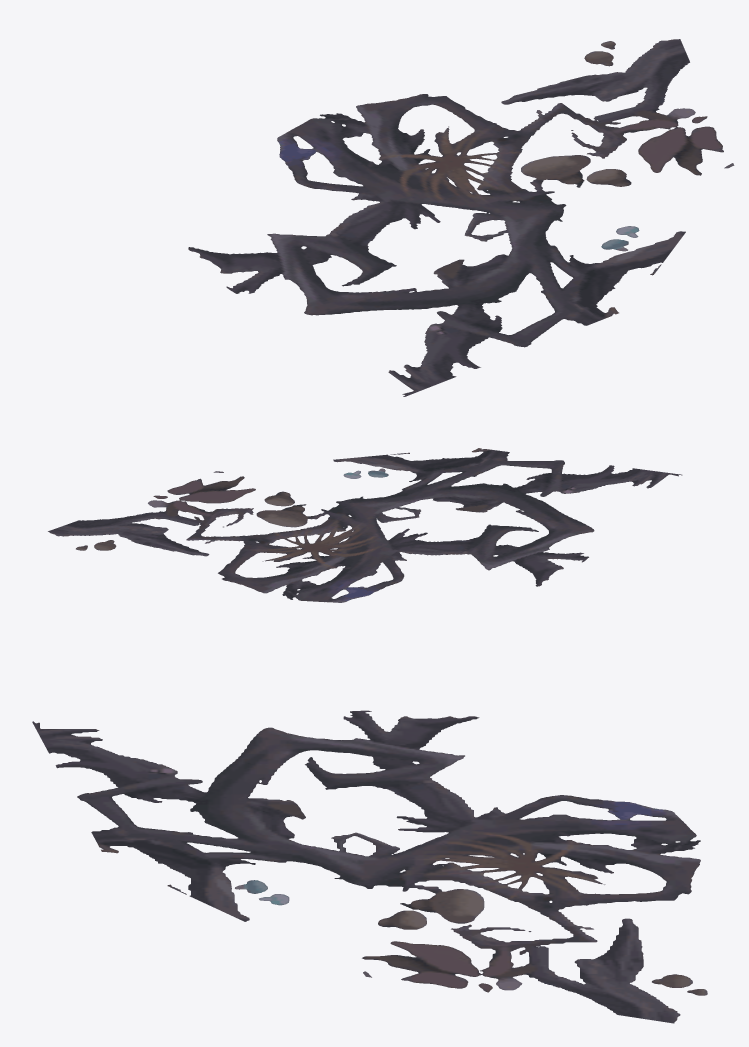
The model's file is yw_shanlin_ground_025.FBX.
3 renders of one model, top to bottom at view 1: azimuth 30°, elevation 25°; view 2: azimuth 150°, elevation 25°; view 3: azimuth 270°, elevation 25°, orthographic. The views are drawn at different scales.
Visible parts, largest first — view 1: yw_shanlin_ground_025; view 2: yw_shanlin_ground_025; view 3: yw_shanlin_ground_025.
Part boxes in pixels (x1,y1,x2,y2): yw_shanlin_ground_025: (188,39,734,396); yw_shanlin_ground_025: (48,448,682,602); yw_shanlin_ground_025: (32,710,707,1023).
Size of the model in its own units: 145 by 7.83e-15 by 128.
